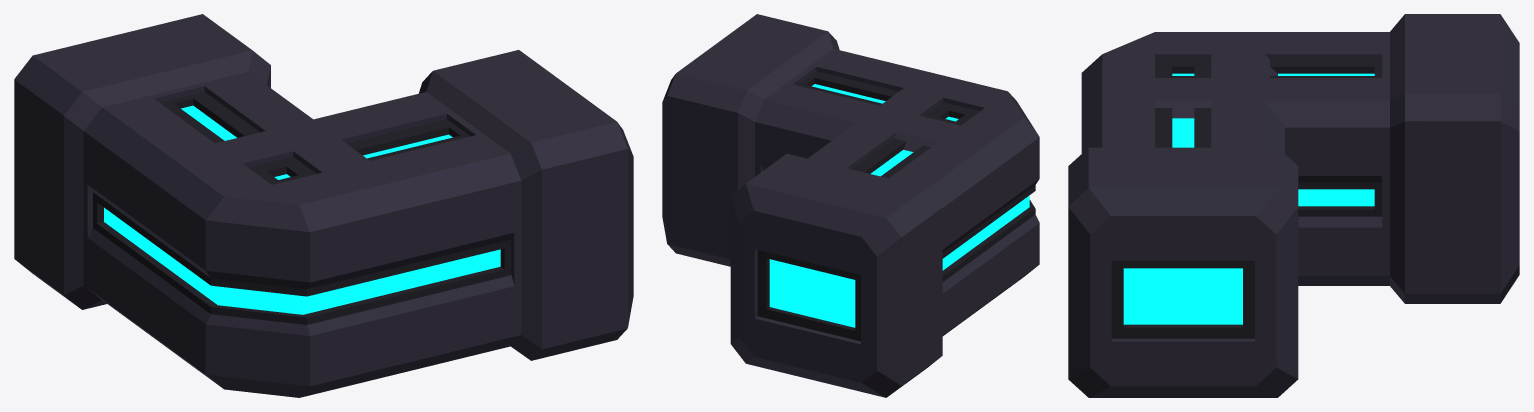
File: pipe_corner.glb
3 renders of one model, left to right at view 1: azimuth 30°, elevation 25°; view 2: azimuth 150°, elevation 25°; view 3: azimuth 270°, elevation 25°, orthographic. The views are drawn at different scales.
Parts seen in each view (by area): view 1: SM_Tuyau_Coude; view 2: SM_Tuyau_Coude; view 3: SM_Tuyau_Coude.
Part boxes in pixels (x1,y1,x2,y2): SM_Tuyau_Coude: [14, 14, 633, 397]; SM_Tuyau_Coude: [662, 14, 1039, 397]; SM_Tuyau_Coude: [1068, 14, 1519, 397].
Bounding box in the file's own units: 0.5891 × 0.3023 × 0.5891.
